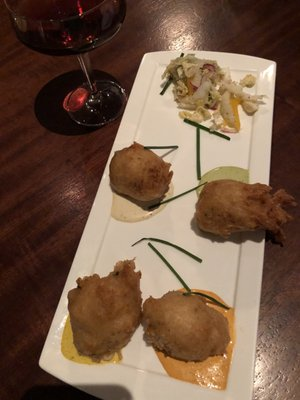burger: (109, 166, 251, 223)
